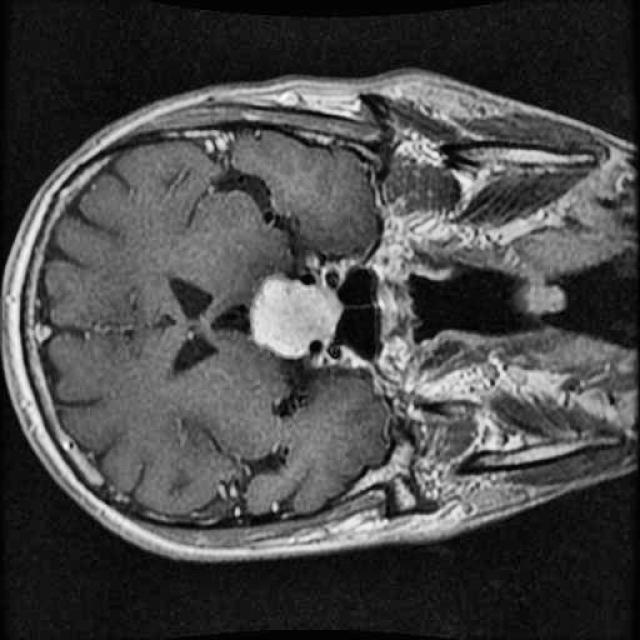Tumor: (228, 259, 356, 370)
